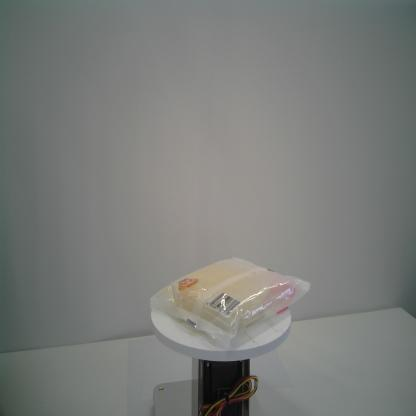Dessert: (148, 254, 312, 352)
